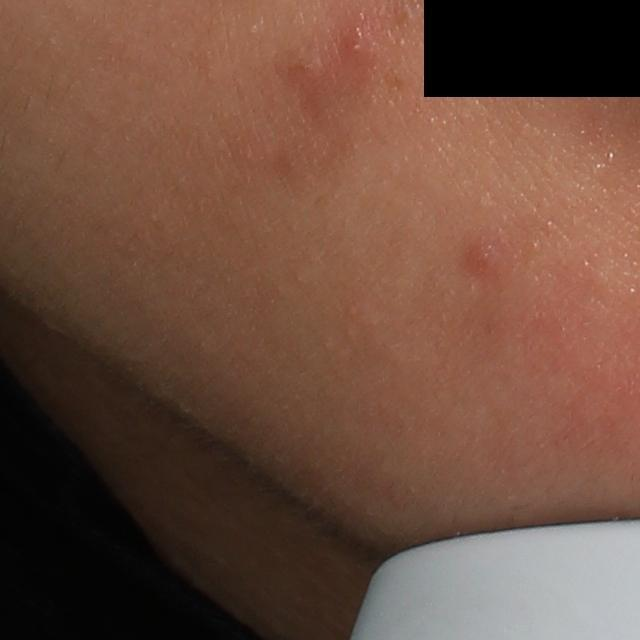papule: (464, 243, 498, 282), (339, 17, 372, 57)
